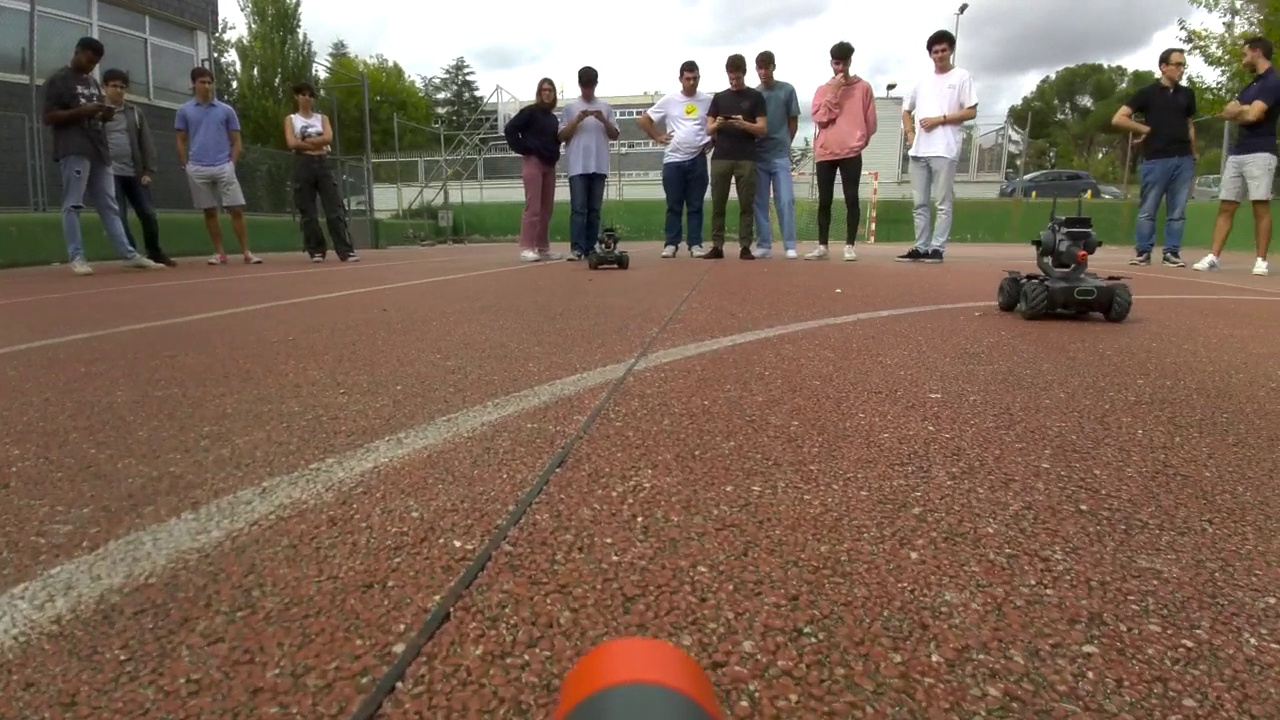robot: (998, 215, 1132, 321), (590, 227, 627, 269)
